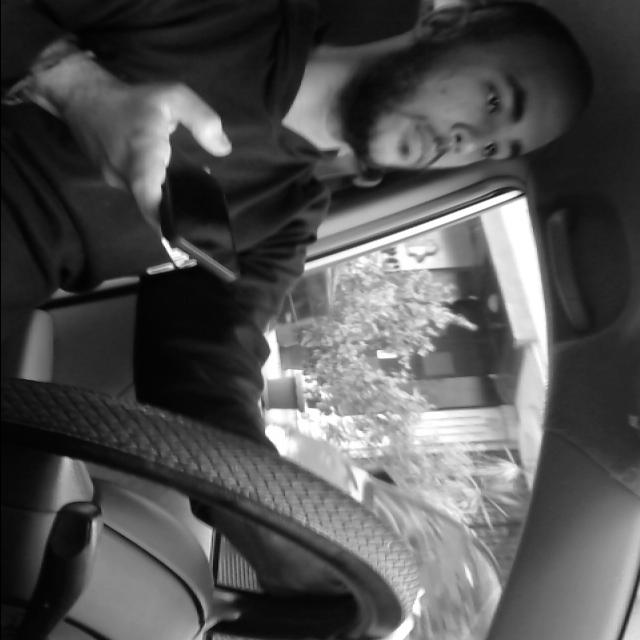mobile use: (164, 152, 242, 284)
